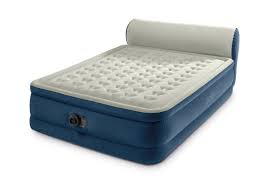bed-matress: (29, 45, 240, 148)
